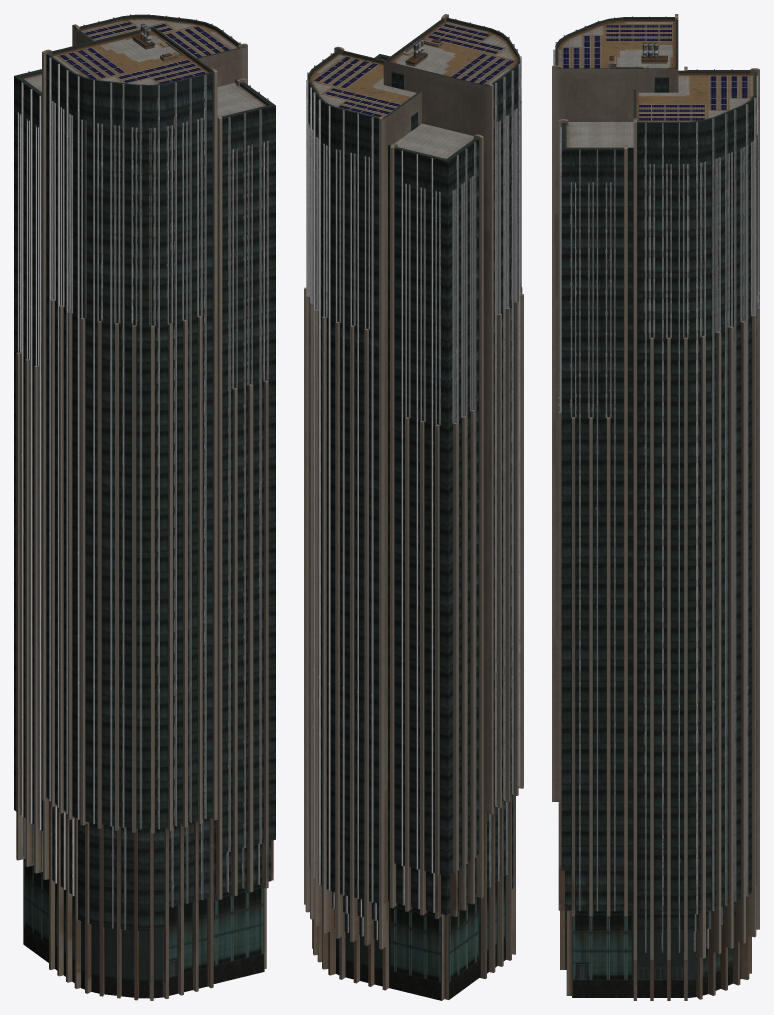
The model's file is LondonKingsReachTower.glb.
3 views of the same model, side by side, from view 1: azimuth 30°, elevation 25°; view 2: azimuth 150°, elevation 25°; view 3: azimuth 270°, elevation 25° (orthographic). The views are drawn at different scales.
Parts seen in each view (by area): view 1: LondonKingsReachTower; view 2: LondonKingsReachTower; view 3: LondonKingsReachTower.
Boxes of the visible parts, left/top/right/bottom form: LondonKingsReachTower: left=14, top=14, right=275, bottom=1000; LondonKingsReachTower: left=304, top=14, right=523, bottom=1000; LondonKingsReachTower: left=552, top=14, right=759, bottom=1000.
Size of what is drawn, in the model's own units: 32 by 156 by 32.
1 material, 1 textured.
